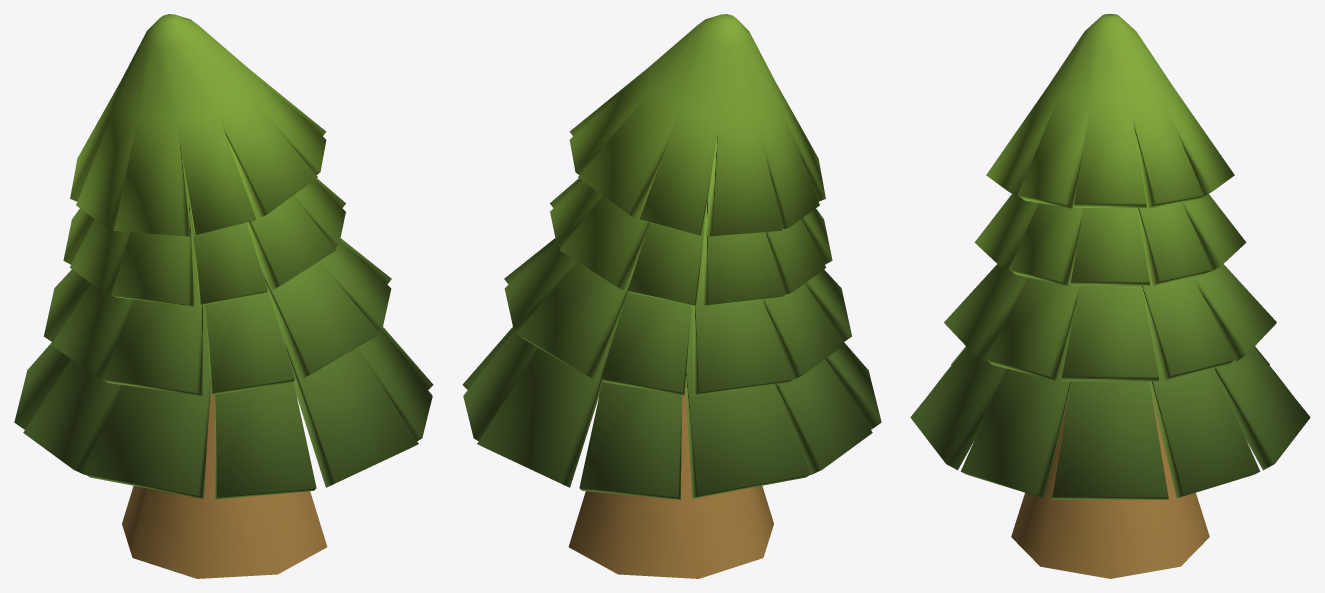
Rendered from Tree+2.fbx.
The picture shows the model from 3 angles, left to right: view 1: azimuth 30°, elevation 25°; view 2: azimuth 150°, elevation 25°; view 3: azimuth 270°, elevation 25°; orthographic projection. The views are drawn at different scales.
Visible parts, largest first — view 1: Tree 2; view 2: Tree 2; view 3: Tree 2.
Part boxes in pixels (box(x1,y1,x2,y2)): Tree 2: box(14, 14, 433, 578); Tree 2: box(462, 14, 881, 578); Tree 2: box(910, 14, 1310, 578).
Bounding box in the file's own units: 236 × 339 × 247.
